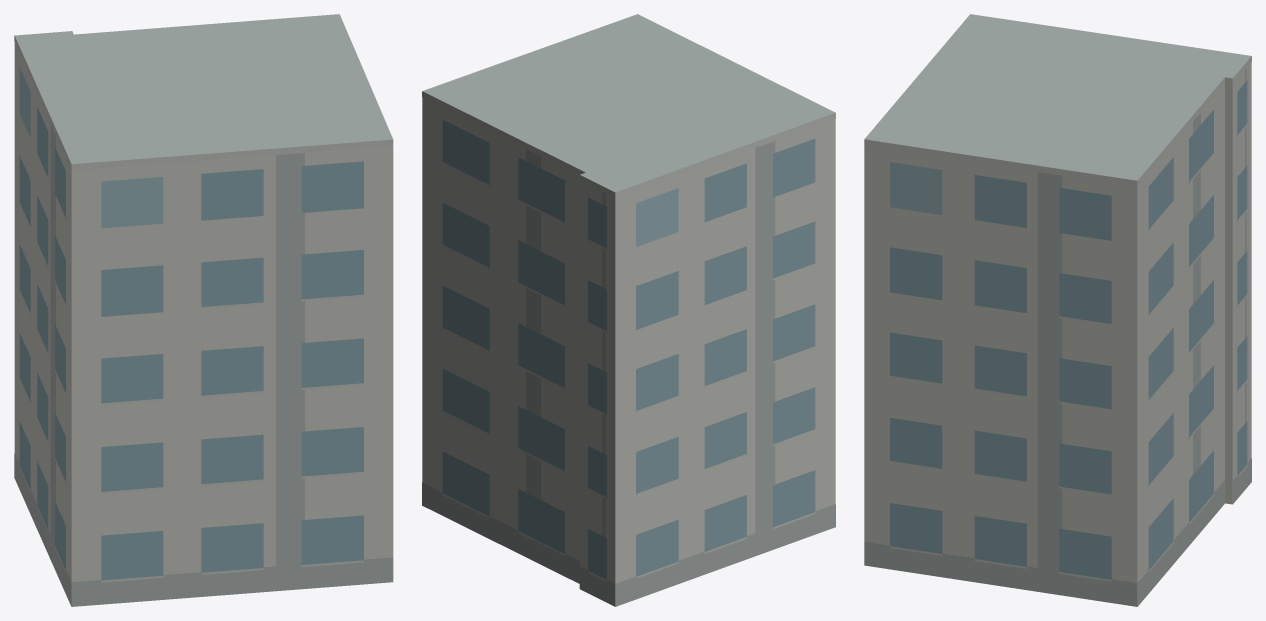
The model's file is survey-upis-32884861.glb.
3 renders of one model, left to right at view 1: azimuth 30°, elevation 25°; view 2: azimuth 150°, elevation 25°; view 3: azimuth 270°, elevation 25°, orthographic. The views are drawn at different scales.
Parts seen in each view (by area): view 1: survey-upis-32884861.tmp; view 2: survey-upis-32884861.tmp; view 3: survey-upis-32884861.tmp.
Boxes of the visible parts, x1=… form: survey-upis-32884861.tmp: x1=14, y1=14, x2=393, y2=606; survey-upis-32884861.tmp: x1=422, y1=14, x2=835, y2=606; survey-upis-32884861.tmp: x1=864, y1=14, x2=1251, y2=606.
Size of the model in its own units: 13.52 by 16.1 by 13.28.
